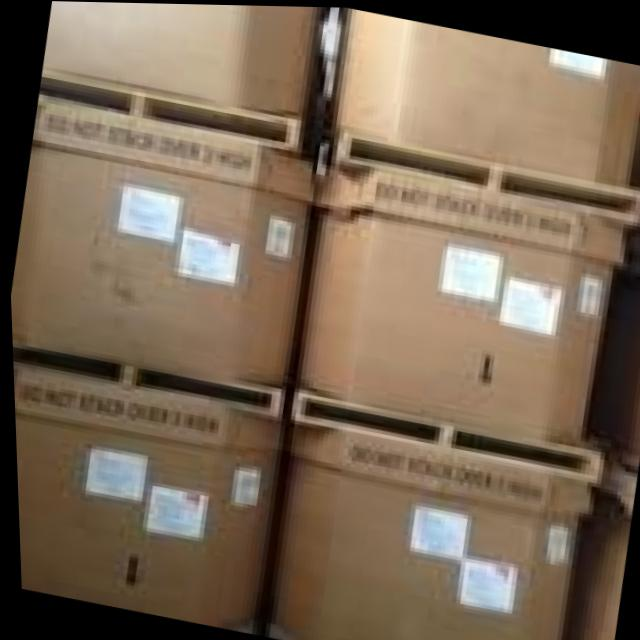box: (297, 164, 621, 441), (8, 104, 311, 388), (266, 419, 588, 640), (11, 368, 282, 628), (324, 6, 640, 182), (41, 1, 330, 116)
